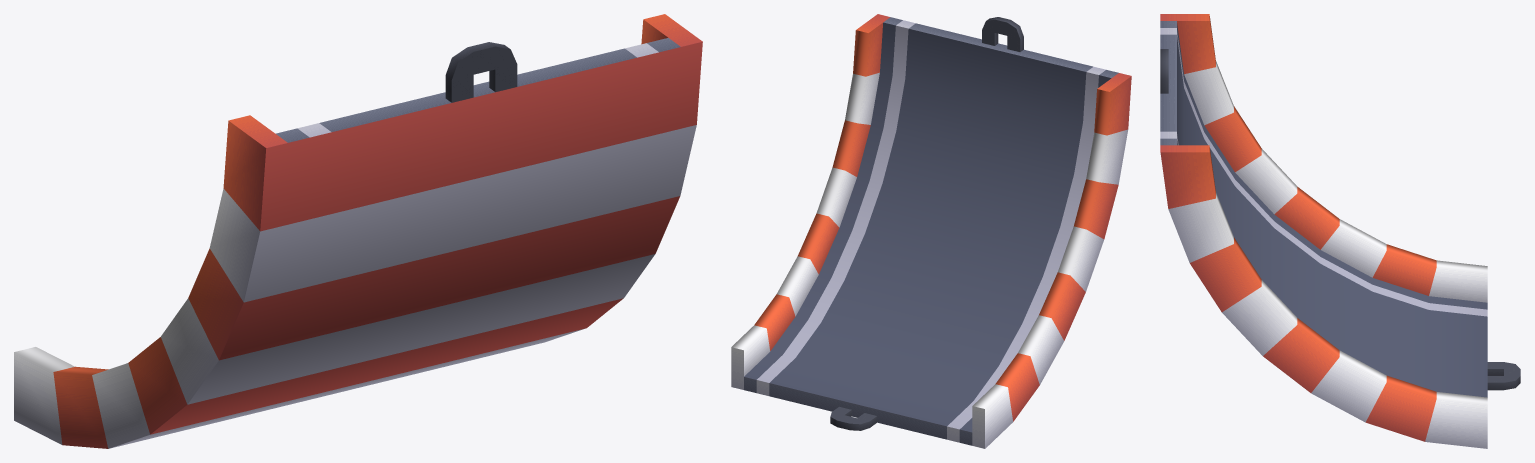
Rendered from track-road-wide-straight-bend.glb.
3 renders of one model, left to right at view 1: azimuth 30°, elevation 25°; view 2: azimuth 150°, elevation 25°; view 3: azimuth 270°, elevation 25°, orthographic. The views are drawn at different scales.
Visible parts, largest first — view 1: track-road-wide-straight-bend; view 2: track-road-wide-straight-bend; view 3: track-road-wide-straight-bend.
Boxes of the visible parts, bbox=[...] form: track-road-wide-straight-bend: bbox=[14, 14, 702, 448]; track-road-wide-straight-bend: bbox=[731, 14, 1131, 448]; track-road-wide-straight-bend: bbox=[1160, 14, 1520, 448].
Bounding box in the file's own units: 6 × 6.6 × 6.6.
1 material, 1 textured.
